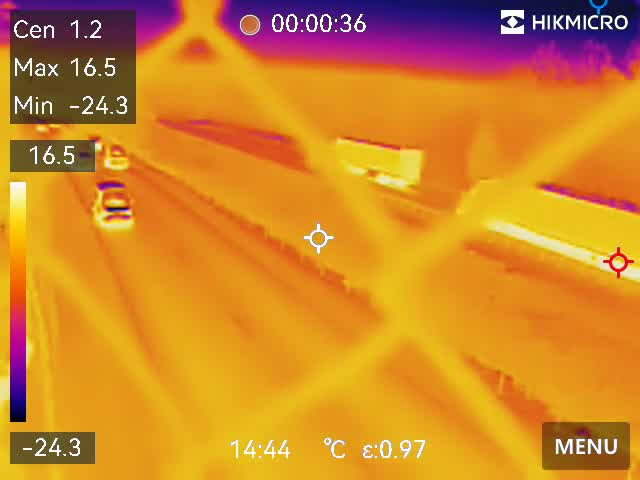heavyTruck: (453, 163, 640, 288), (314, 130, 424, 189)
vehicle: (90, 177, 135, 232), (103, 143, 134, 175)
